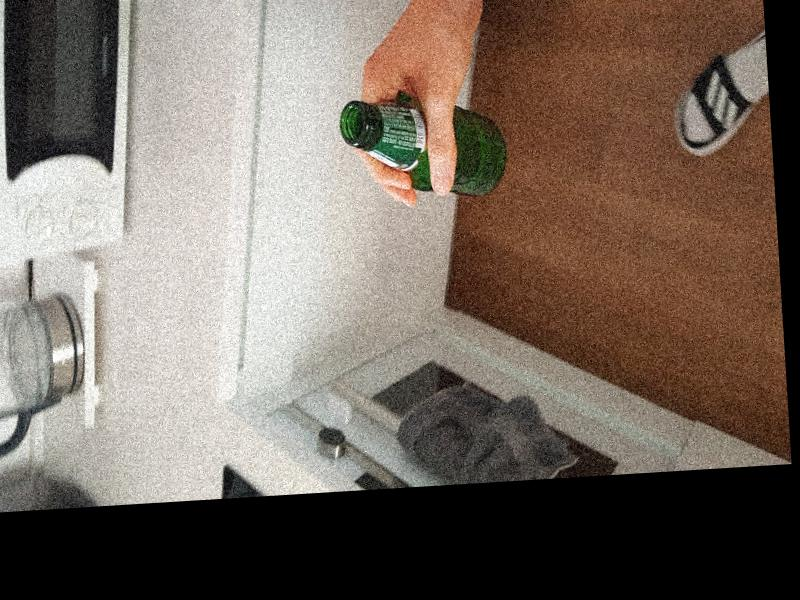Beer: (340, 91, 509, 204)
